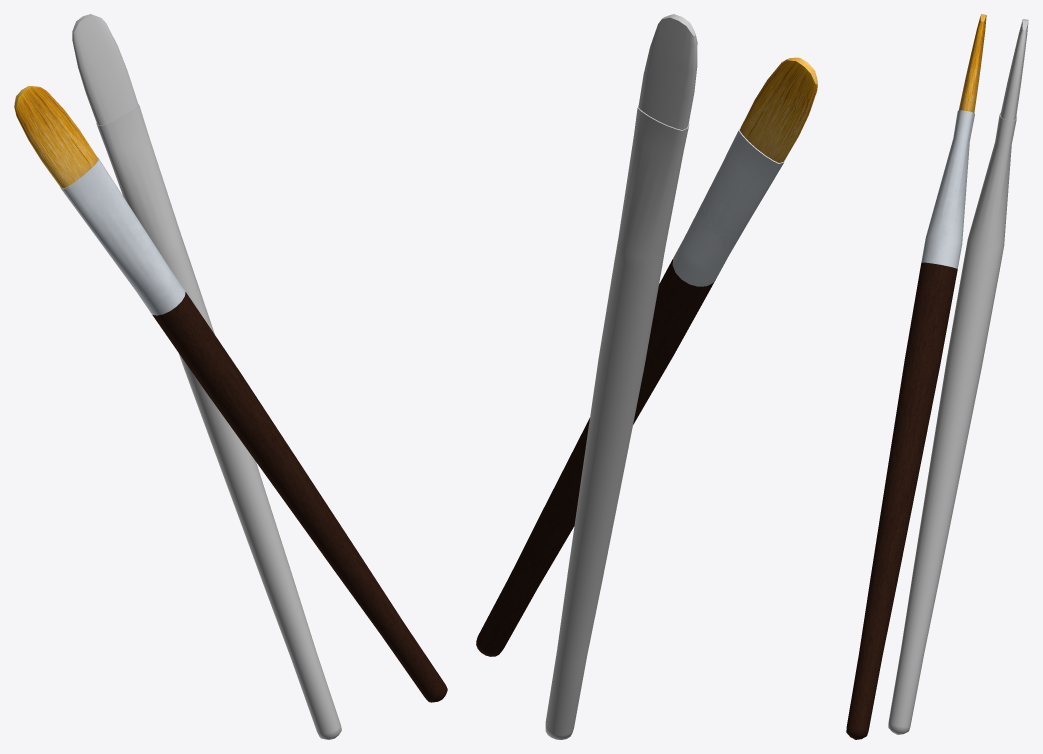
The model's file is PaintBrush3.obj.
The picture shows the model from 3 angles, left to right: view 1: azimuth 30°, elevation 25°; view 2: azimuth 150°, elevation 25°; view 3: azimuth 270°, elevation 25°; orthographic projection. The views are drawn at different scales.
Parts seen in each view (by area): view 1: PaintBrush3, PaintBrush3v2; view 2: PaintBrush3v2, PaintBrush3; view 3: PaintBrush3, PaintBrush3v2.
Boxes of the visible parts, bbox=[...] form: PaintBrush3: bbox=[14, 86, 447, 702]; PaintBrush3v2: bbox=[72, 14, 341, 739]; PaintBrush3v2: bbox=[545, 14, 697, 739]; PaintBrush3: bbox=[476, 57, 817, 656]; PaintBrush3: bbox=[846, 14, 986, 739]; PaintBrush3v2: bbox=[888, 19, 1028, 734].
Size of the model in its own units: 4.4 by 8.3 by 2.14.
